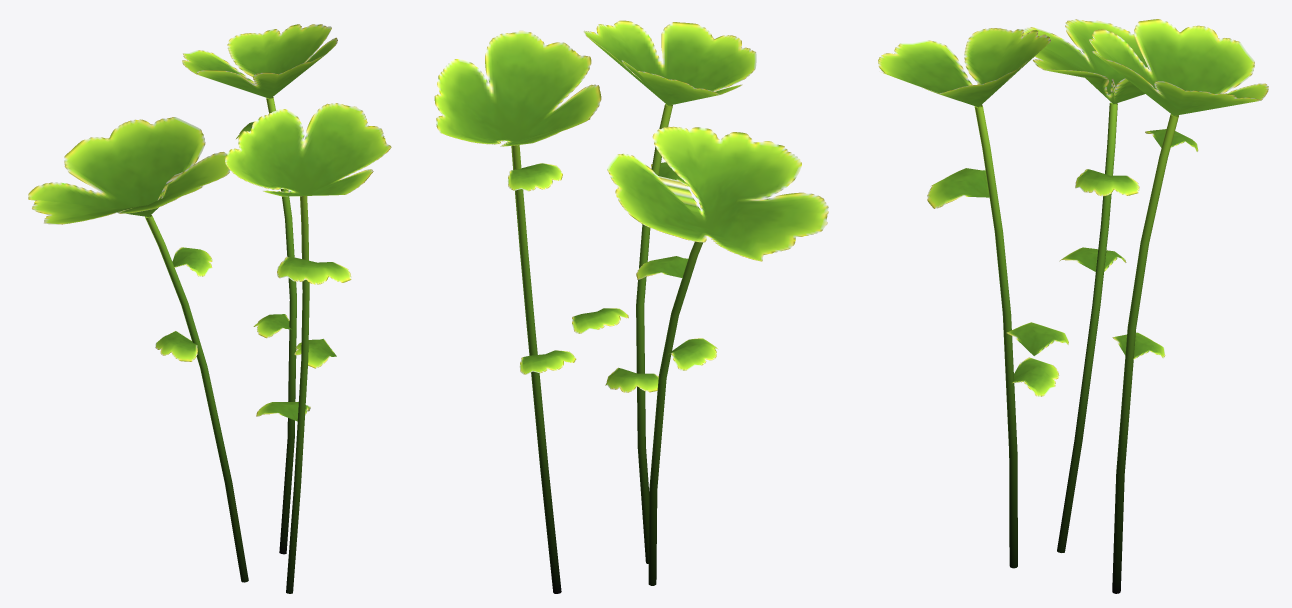
File: Clover_1.gltf
3 views of the same model, side by side, from view 1: azimuth 30°, elevation 25°; view 2: azimuth 150°, elevation 25°; view 3: azimuth 270°, elevation 25° (orthographic). The views are drawn at different scales.
Visible parts, largest first — view 1: Clover_1; view 2: Clover_1; view 3: Clover_1.
Part boxes in pixels (left/top/right/bottom): Clover_1: left=28, top=24, right=391, bottom=593; Clover_1: left=434, top=20, right=828, bottom=593; Clover_1: left=878, top=19, right=1268, bottom=593.
Size of the model in its own units: 0.7963 by 1.14 by 0.7639.
Materials: 1 (1 with a texture image).
